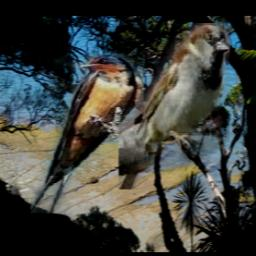Sparrow: (118, 23, 229, 189)
Swallow: (30, 55, 143, 214)
